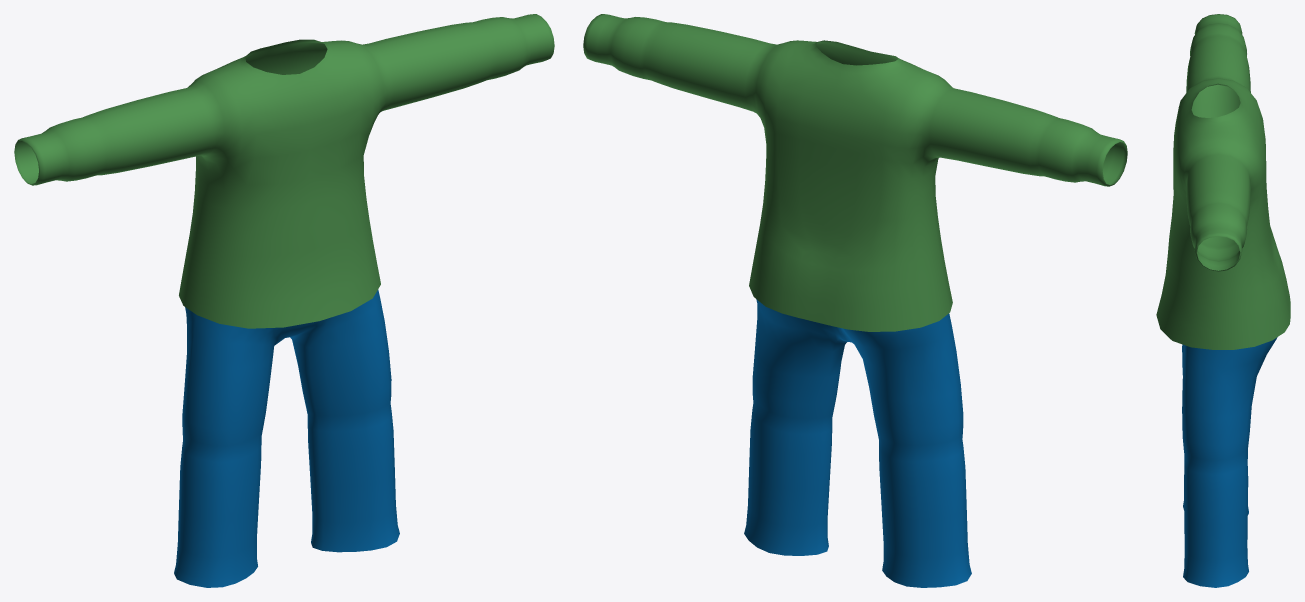
Rendered from casual-1.glb.
3 renders of one model, left to right at view 1: azimuth 30°, elevation 25°; view 2: azimuth 150°, elevation 25°; view 3: azimuth 270°, elevation 25°, orthographic. The views are drawn at different scales.
Parts seen in each view (by area): view 1: basic; view 2: basic; view 3: basic.
Part boxes in pixels (x1,y1,x2,y2): basic: (14,14,554,587); basic: (583,14,1127,587); basic: (1156,14,1290,587).
Bounding box in the file's own units: 2.5 × 2.34 × 0.6407.
